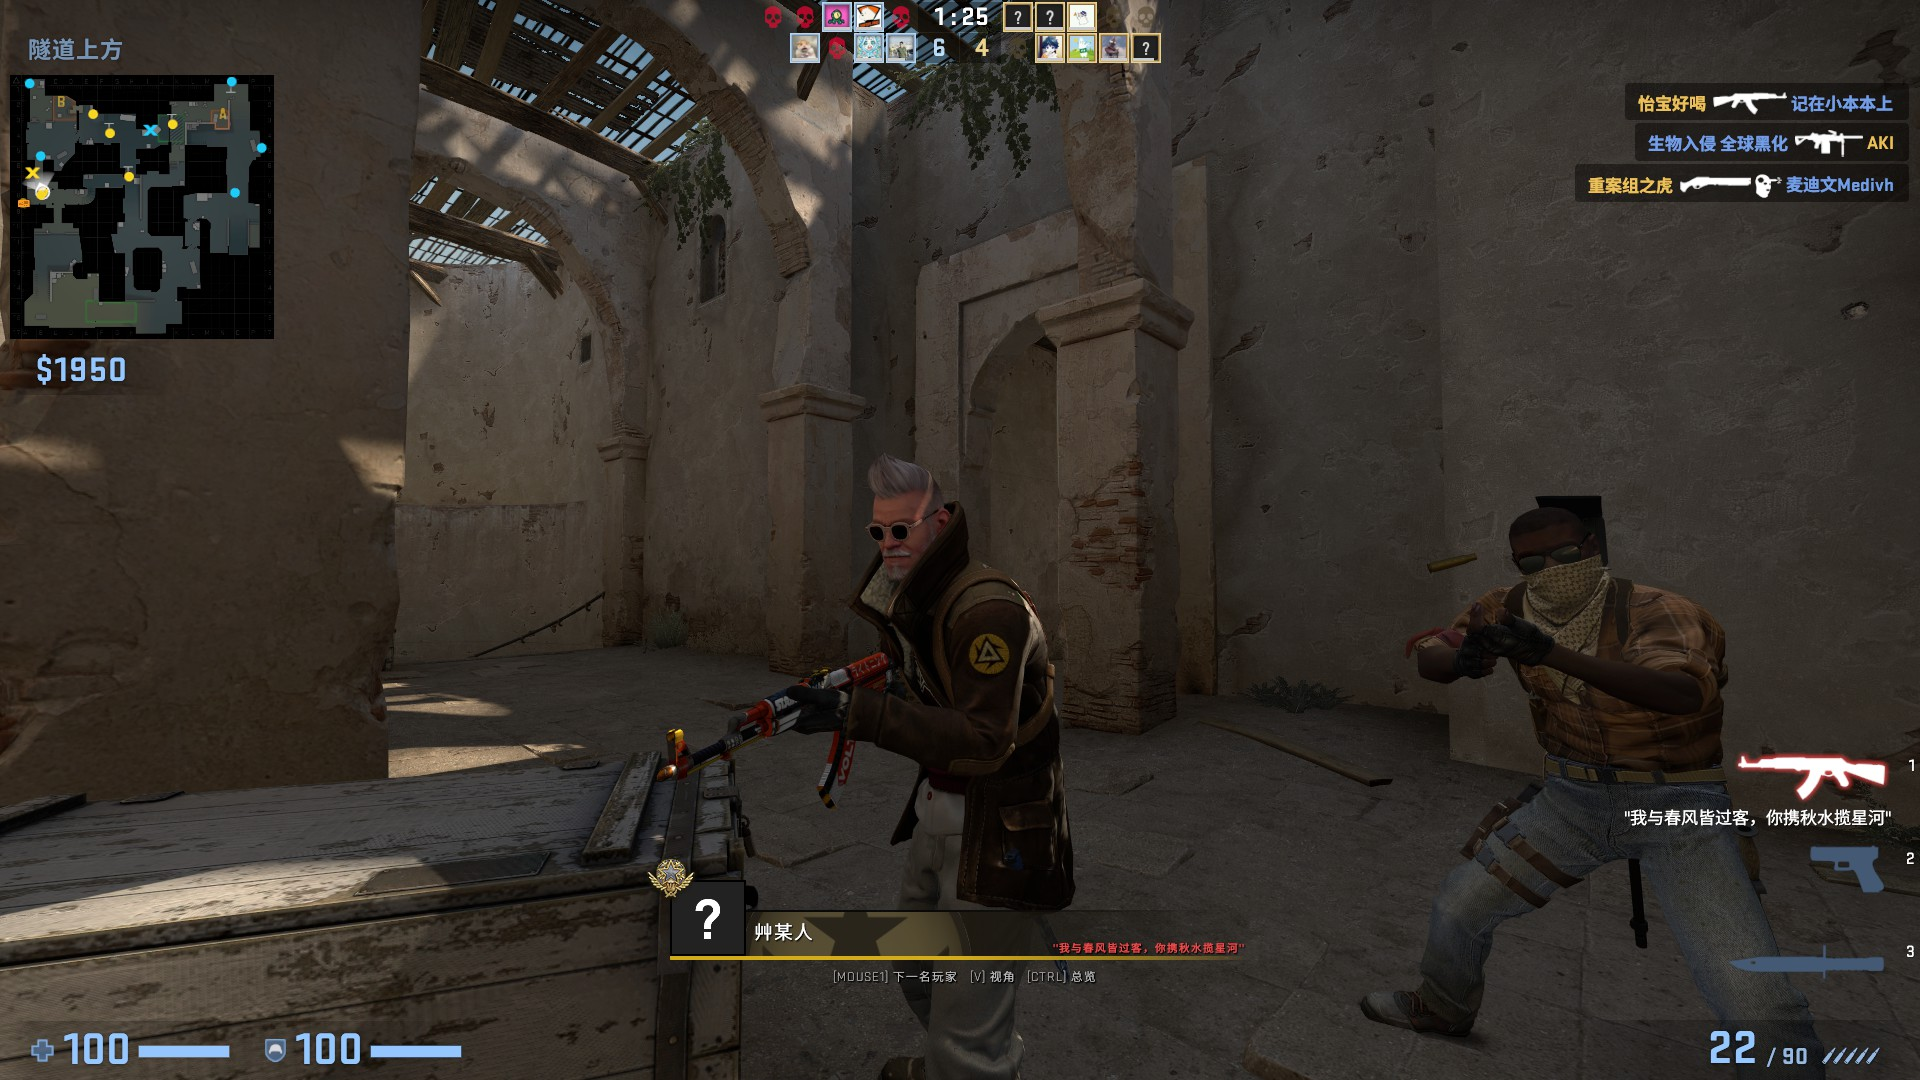head: (1506, 502, 1613, 623), (862, 450, 952, 579)
